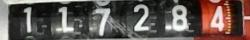digits: (20, 3, 38, 35), (92, 8, 111, 36), (56, 5, 74, 34), (132, 4, 150, 32), (171, 4, 188, 30), (209, 6, 225, 32)
